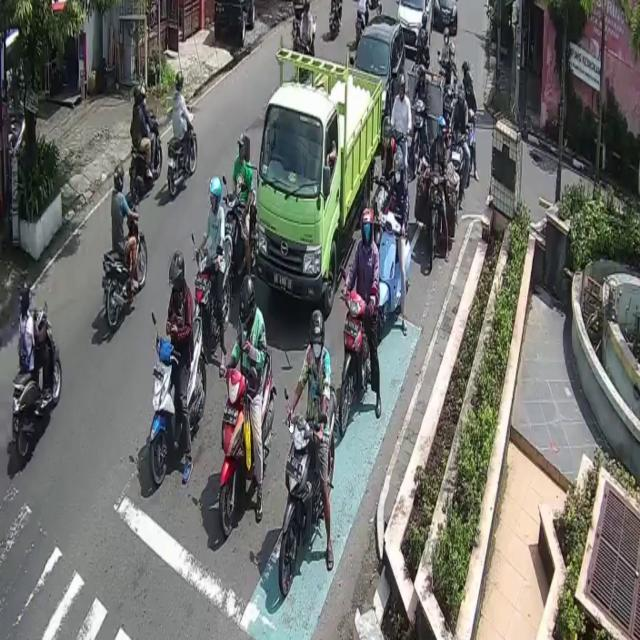bus: (279, 383, 339, 596), (148, 313, 208, 488), (221, 349, 276, 537), (11, 308, 61, 463), (339, 294, 380, 434), (102, 207, 148, 328), (190, 234, 233, 344), (376, 210, 409, 334), (221, 190, 256, 278), (166, 108, 198, 200), (130, 110, 162, 202), (428, 165, 447, 264), (412, 101, 430, 176), (448, 133, 467, 195)
motorcycle: (351, 14, 406, 142), (399, 0, 435, 57), (432, 0, 460, 39)
truck: (256, 45, 384, 313)
